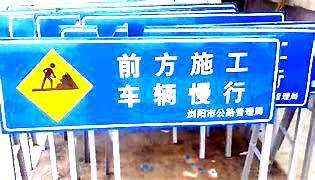sign: (1, 39, 273, 125)
